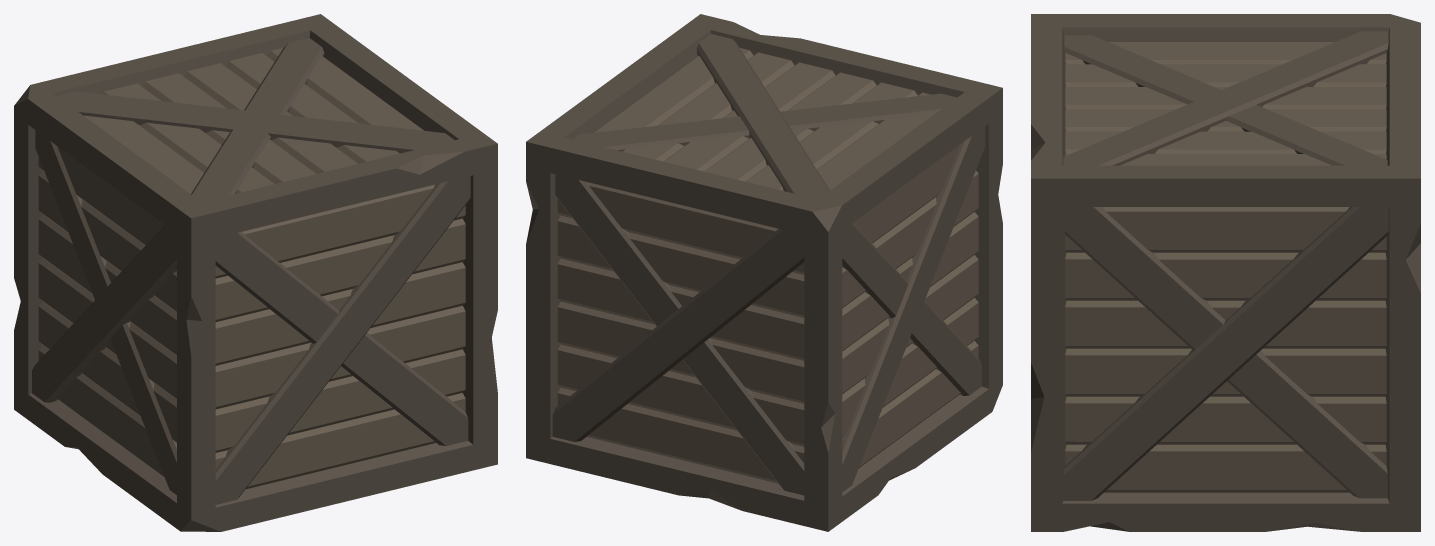
The model's file is Prop_Crate_03_01.fbx.
3 views of the same model, side by side, from view 1: azimuth 30°, elevation 25°; view 2: azimuth 150°, elevation 25°; view 3: azimuth 270°, elevation 25° (orthographic). The views are drawn at different scales.
Parts seen in each view (by area): view 1: Prop_Crate_03_01_LOD0; view 2: Prop_Crate_03_01_LOD0; view 3: Prop_Crate_03_01_LOD0.
Boxes of the visible parts, <box> form: Prop_Crate_03_01_LOD0: <box>14,14,497,531</box>; Prop_Crate_03_01_LOD0: <box>526,14,1002,531</box>; Prop_Crate_03_01_LOD0: <box>1031,14,1420,531</box>.
Size of what is drawn, in the model's own units: 67.2 by 67.2 by 67.2.
